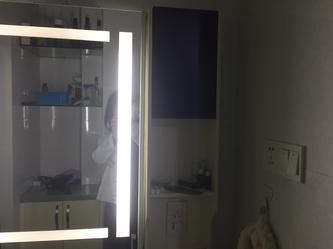switch: (288, 147, 300, 177), (278, 146, 287, 175)
